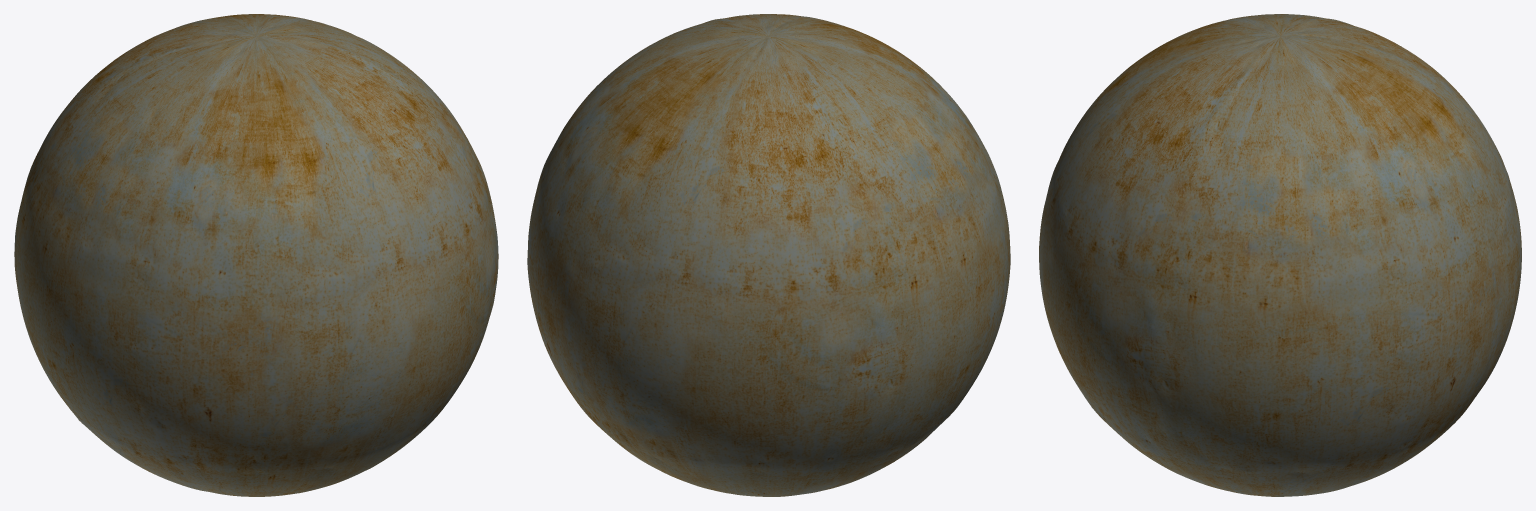
File: rusty_metal_sheet_2k.gltf
The picture shows the model from 3 angles, left to right: view 1: azimuth 30°, elevation 25°; view 2: azimuth 150°, elevation 25°; view 3: azimuth 270°, elevation 25°; orthographic projection.
Parts seen in each view (by area): view 1: sphere_gltf; view 2: sphere_gltf; view 3: sphere_gltf.
Boxes of the visible parts, x1=… form: sphere_gltf: x1=14, y1=14, x2=498, y2=496; sphere_gltf: x1=527, y1=14, x2=1010, y2=496; sphere_gltf: x1=1039, y1=14, x2=1521, y2=496.
Bounding box in the file's own units: 2 × 2 × 2.
Materials: 1 (1 with a texture image).
